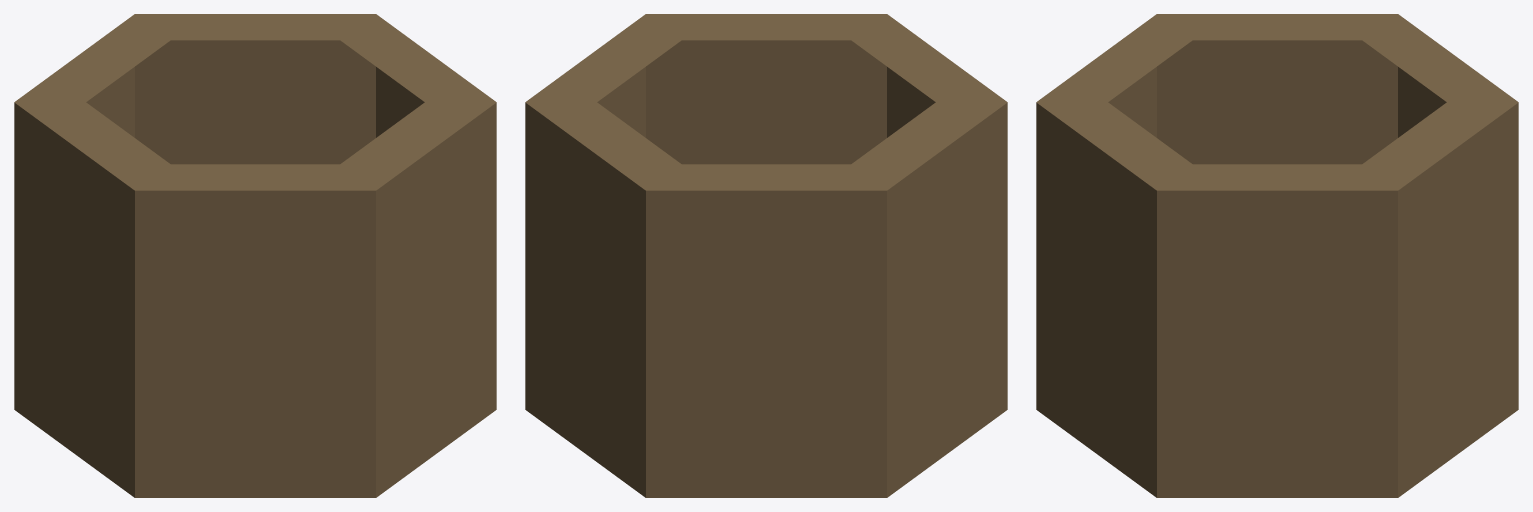
The model's file is city_tile.glb.
3 views of the same model, side by side, from view 1: azimuth 30°, elevation 25°; view 2: azimuth 150°, elevation 25°; view 3: azimuth 270°, elevation 25° (orthographic).
Parts seen in each view (by area): view 1: City Tile; view 2: City Tile; view 3: City Tile.
Part boxes in pixels (x1,y1,x2,y2): City Tile: (14,14,496,497); City Tile: (525,14,1007,497); City Tile: (1036,14,1518,497).
Size of the model in its own units: 1.73 by 1.41 by 2.
